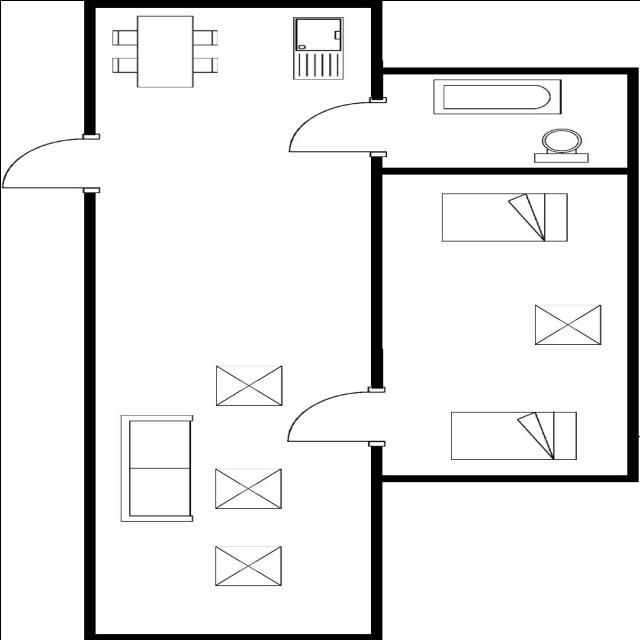bed: (448, 408, 582, 464), (436, 190, 572, 243)
coffee_table: (530, 301, 610, 348), (210, 361, 290, 408), (210, 465, 287, 511), (211, 542, 284, 589)
dining_table: (107, 14, 223, 90)
large_sink: (528, 126, 592, 164)
large_sofa: (115, 412, 198, 526)
sink: (287, 12, 351, 82)
tub: (426, 74, 568, 119)
